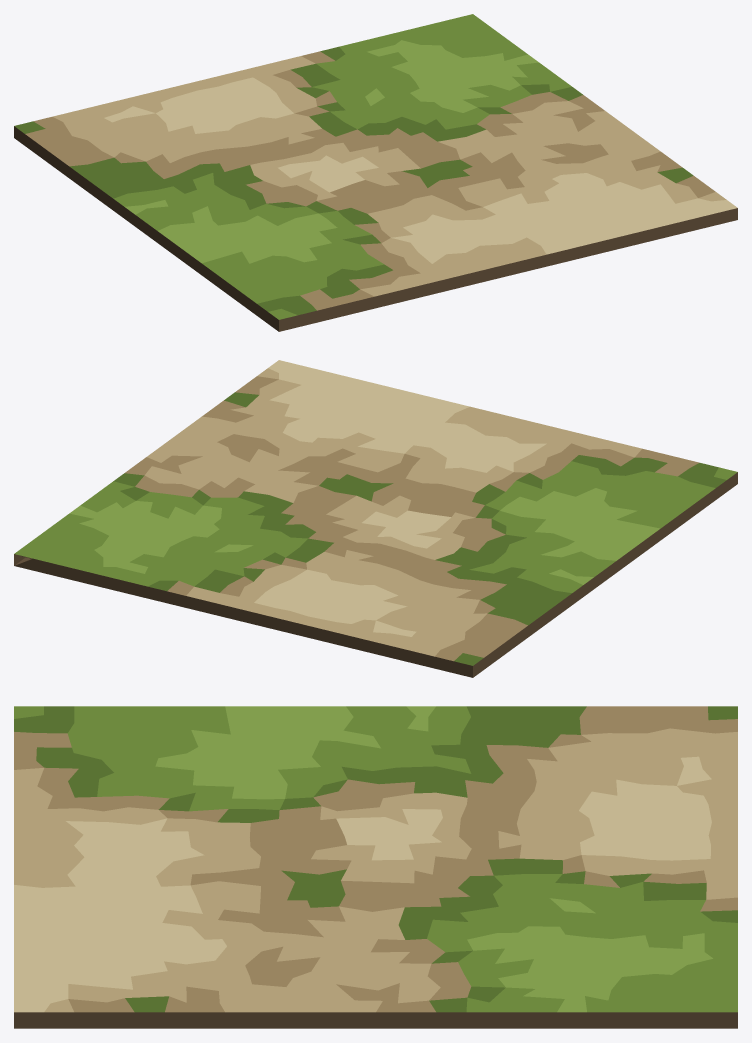
File: Ground.fbx
3 views of the same model, one above another, from view 1: azimuth 30°, elevation 25°; view 2: azimuth 150°, elevation 25°; view 3: azimuth 270°, elevation 25° (orthographic). The views are drawn at different scales.
Parts seen in each view (by area): view 1: Ground; view 2: Ground; view 3: Ground.
Boxes of the visible parts, x1,y1,x2,y2 form: Ground: [14, 14, 737, 331]; Ground: [14, 360, 737, 677]; Ground: [14, 706, 737, 1028].
Size of the model in its own units: 24 by 0.6 by 24.
